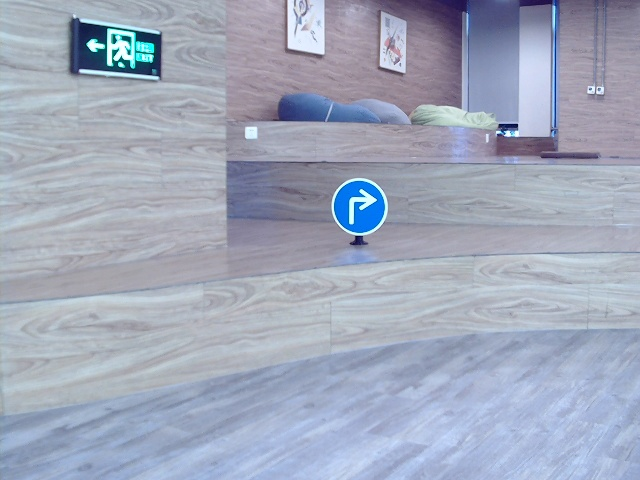turn_right: (343, 185, 374, 221)
